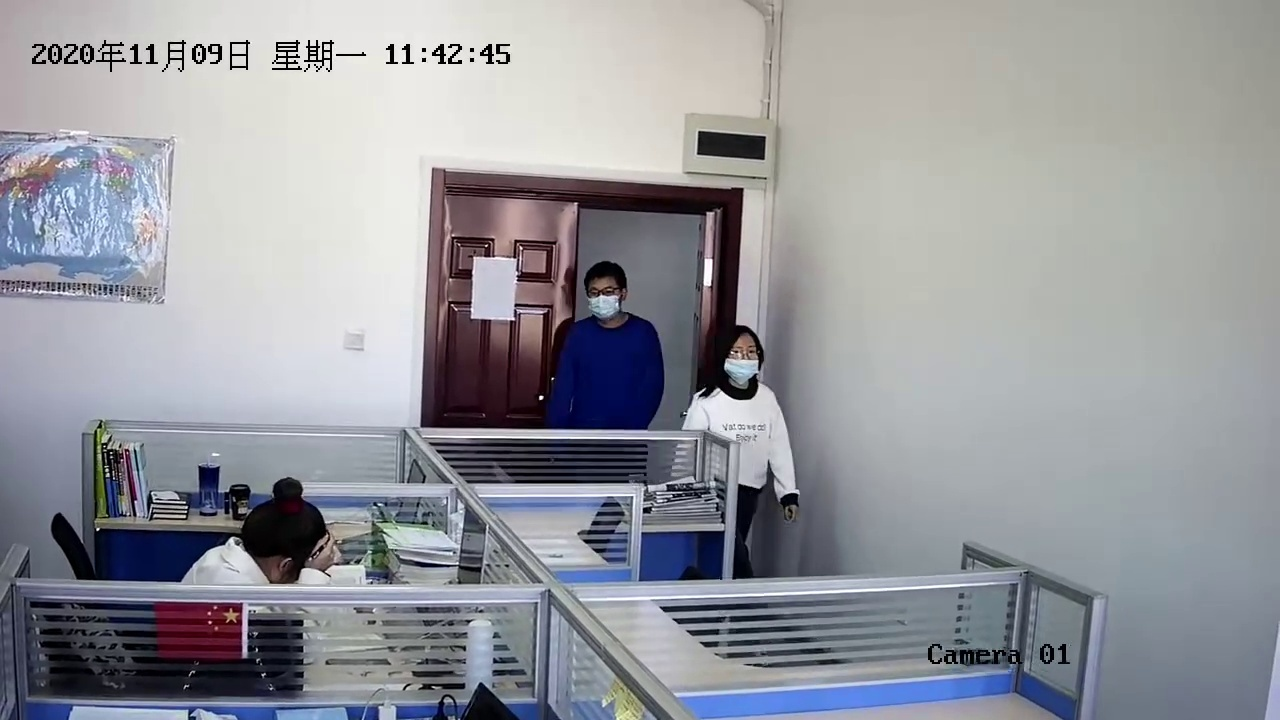mask: (582, 265, 629, 322), (718, 326, 761, 385)
